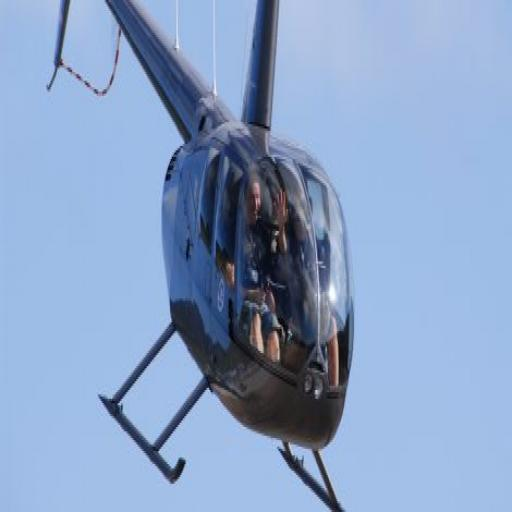helicopter: (48, 3, 350, 511)
